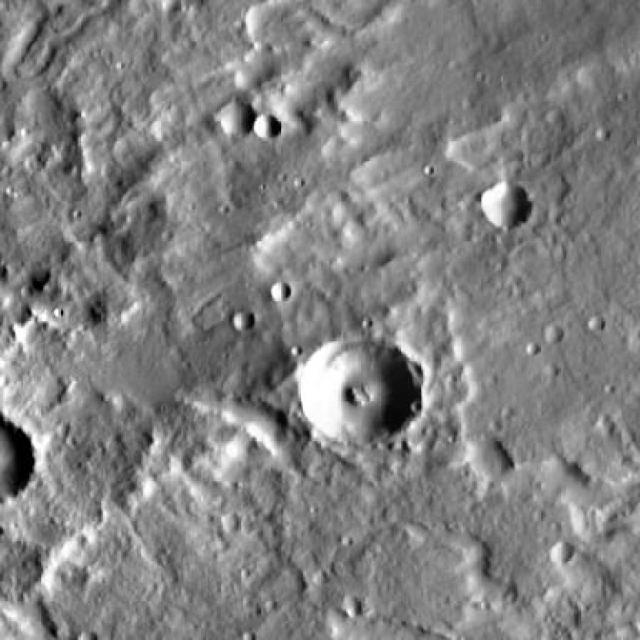crater: (301, 333, 422, 449), (485, 182, 532, 226), (214, 100, 252, 137), (253, 114, 282, 141), (548, 546, 570, 566), (232, 312, 254, 332), (273, 282, 293, 300), (587, 314, 604, 329), (69, 629, 89, 640)
